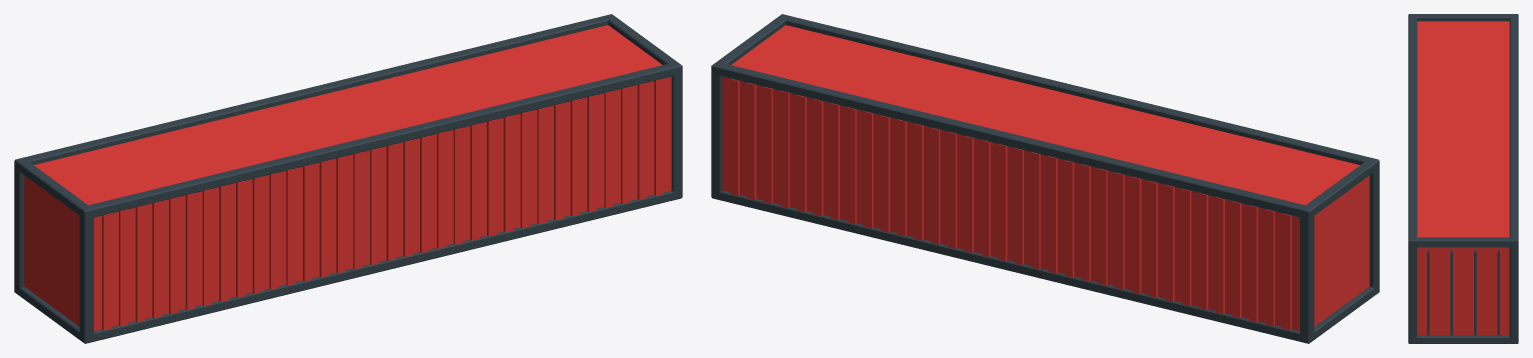
The model's file is cont40.glb.
3 renders of one model, left to right at view 1: azimuth 30°, elevation 25°; view 2: azimuth 150°, elevation 25°; view 3: azimuth 270°, elevation 25°, orthographic. The views are drawn at different scales.
Visible parts, largest first — view 1: cont40; view 2: cont40; view 3: cont40.
Part boxes in pixels (x1=…): cont40: x1=14, y1=14, x2=682, y2=343; cont40: x1=711, y1=14, x2=1379, y2=343; cont40: x1=1408, y1=14, x2=1518, y2=343.
Bounding box in the file's own units: 12.25 × 2.6 × 2.5.
